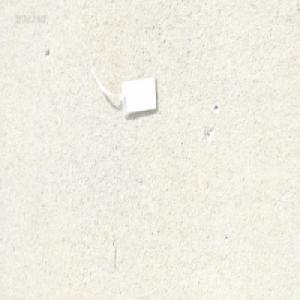LuggageTag: (86, 70, 157, 117)
